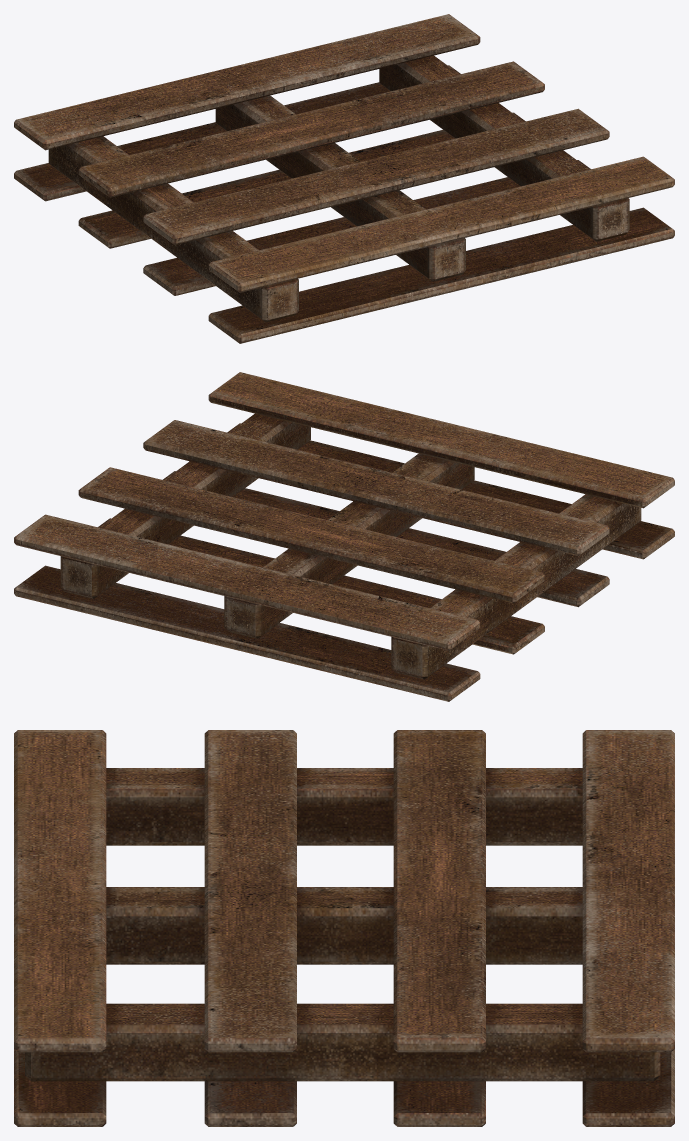
File: Pallet.fbx
3 views of the same model, one above another, from view 1: azimuth 30°, elevation 25°; view 2: azimuth 150°, elevation 25°; view 3: azimuth 270°, elevation 25° (orthographic). The views are drawn at different scales.
Parts seen in each view (by area): view 1: pCube16; view 2: pCube16; view 3: pCube16.
Part boxes in pixels (x1,y1,x2,y2): pCube16: [14, 14, 674, 343]; pCube16: [14, 372, 674, 701]; pCube16: [14, 730, 674, 1126].
Size of the model in its own units: 1.19 by 0.1574 by 1.07.
